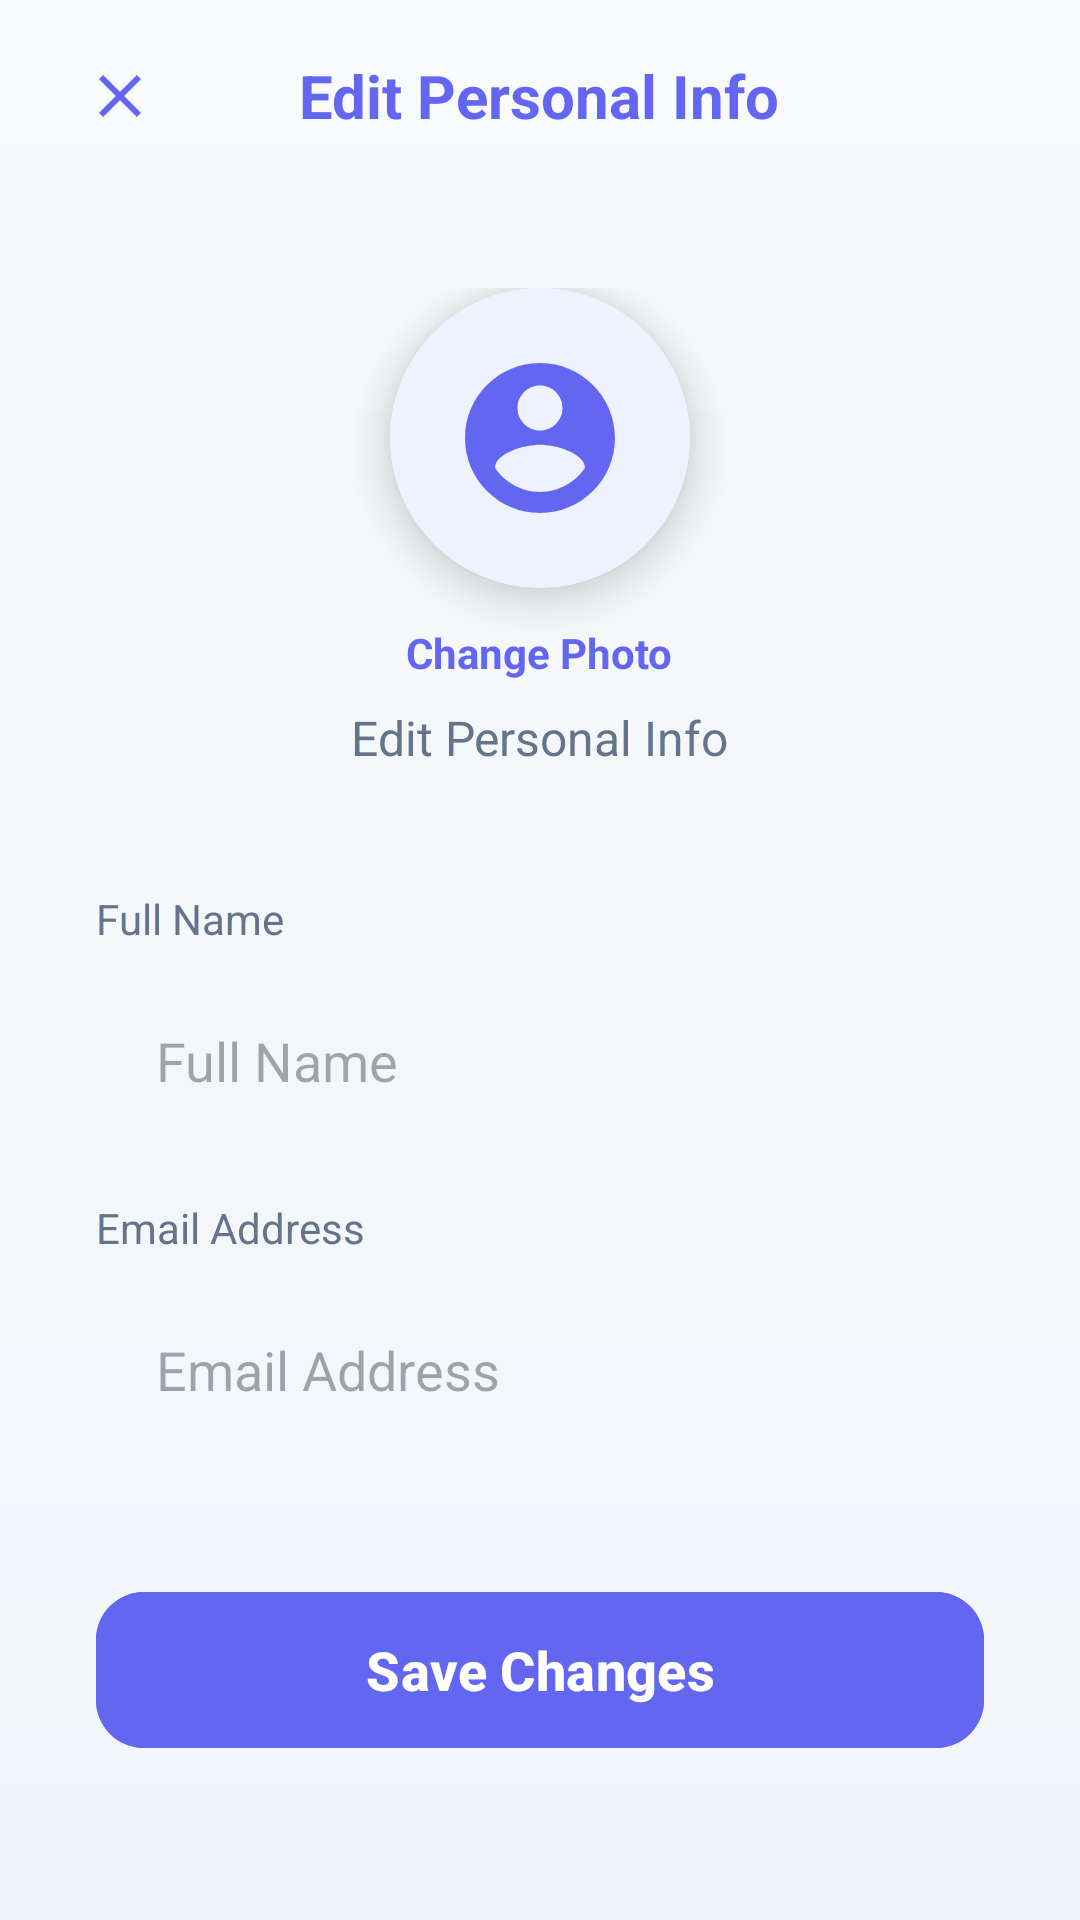

Icons on this 1080*1920 Android screen, each with the point to tap as point (x, y):
account: point (540, 438)
close: point (120, 96)
